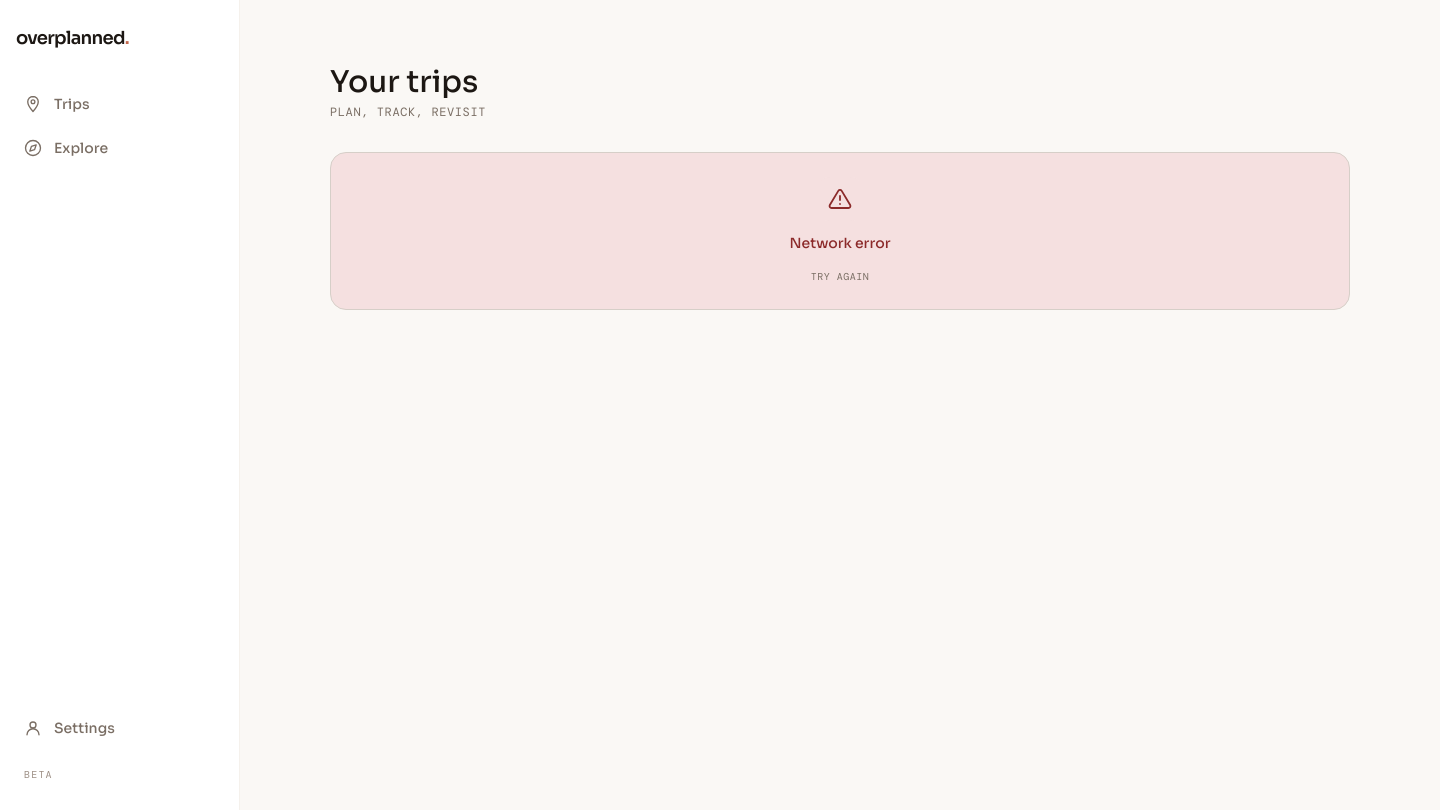
Test: DashboardPage › retries fetch when retry button is clicked in error state
Expected: the text "Network error" is shown, [790,233,890,253]
What coordinates should you click on to do the following:
click the button "Try again"
I would click on:
 (840, 277)
Its box is [811,269,869,285].
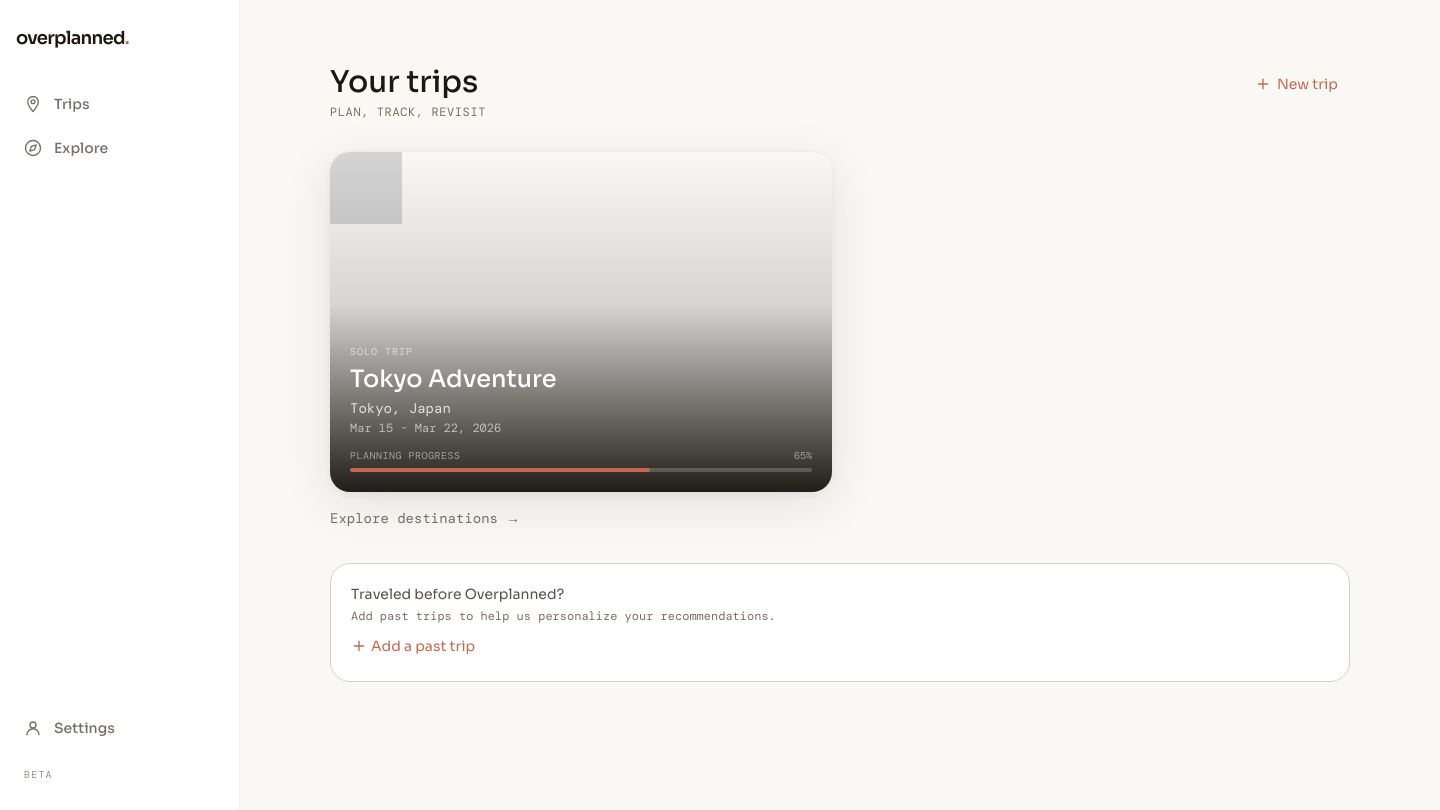
Expected: the heading "Tokyo Adventure" is shown, [350,364,557,394]
